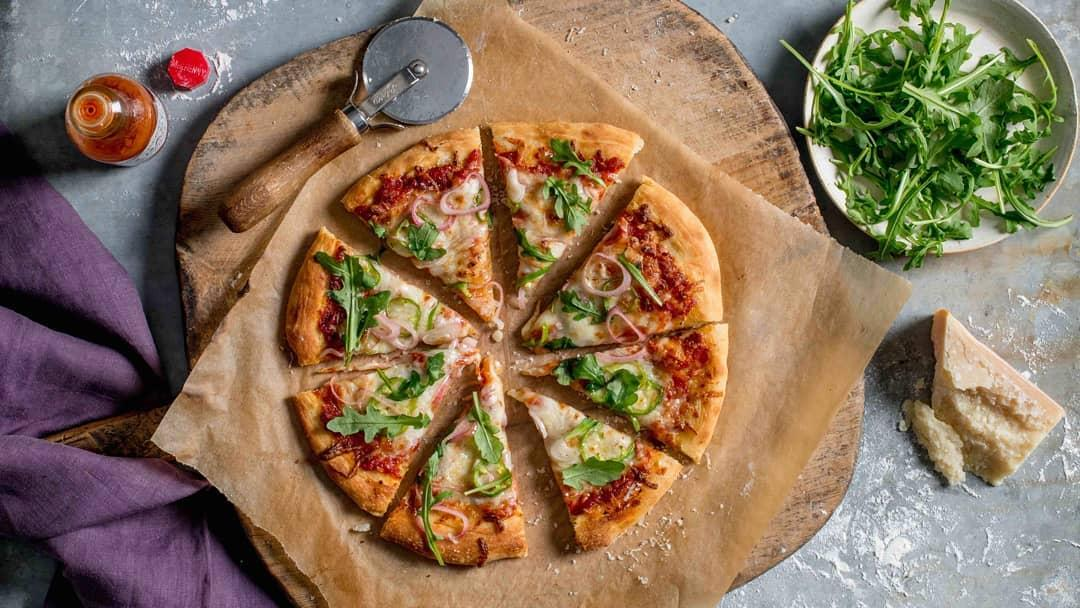Arugula: (835, 44, 1012, 210), (313, 244, 392, 367), (551, 353, 641, 431), (409, 440, 455, 568), (323, 397, 437, 445), (546, 137, 611, 194), (375, 350, 449, 400), (537, 172, 594, 234), (463, 395, 513, 465), (613, 249, 669, 308), (558, 453, 627, 499), (402, 207, 451, 269), (550, 281, 615, 327), (509, 224, 560, 266), (461, 462, 517, 500), (519, 324, 582, 350), (508, 263, 552, 293), (564, 415, 600, 447)
Basil: (281, 116, 736, 568)
Onion: (410, 499, 473, 544), (402, 373, 450, 432), (314, 365, 381, 407), (438, 167, 491, 218), (582, 250, 635, 298), (407, 190, 457, 234), (365, 311, 420, 350), (491, 149, 528, 205), (602, 304, 648, 347), (435, 339, 484, 375), (477, 381, 510, 431), (422, 316, 473, 342), (596, 344, 651, 366), (481, 278, 505, 326), (545, 439, 582, 465), (521, 406, 550, 439), (440, 415, 473, 441), (507, 283, 531, 310), (537, 236, 565, 259)
Peppers: (466, 458, 511, 498), (389, 288, 428, 333), (627, 376, 665, 418), (513, 261, 551, 292), (417, 298, 443, 334), (444, 274, 472, 302)
